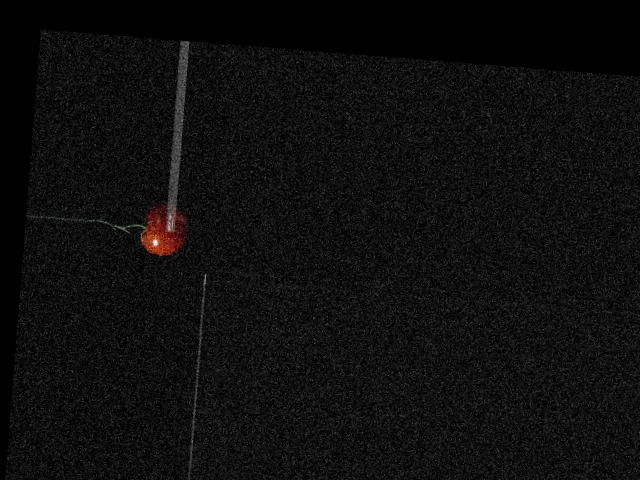tomato: (140, 203, 187, 256)
